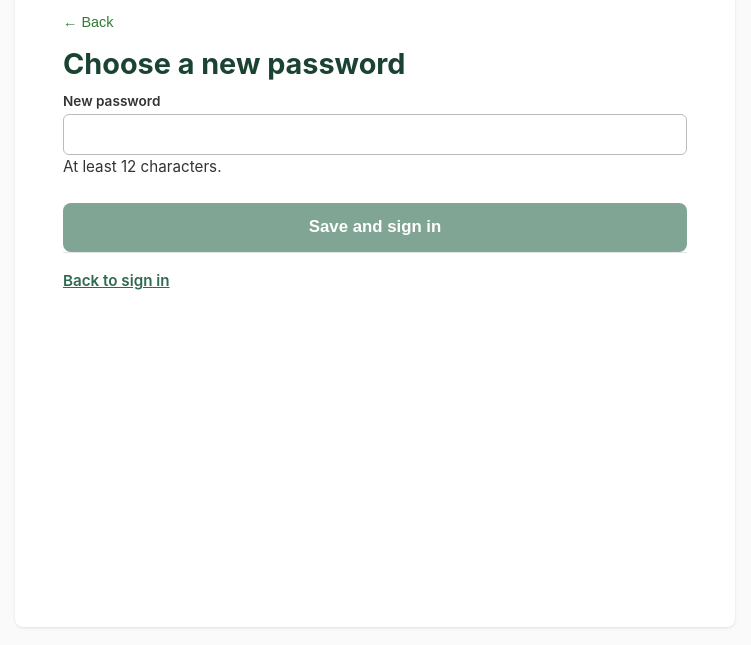
Test: ResetPasswordPage › shows an expired link and stays put
This screenshot has width=751, height=645.
Type "a brand new passphrase" into the password field labelled "New password" at (375, 134), box [63,114,687,155]
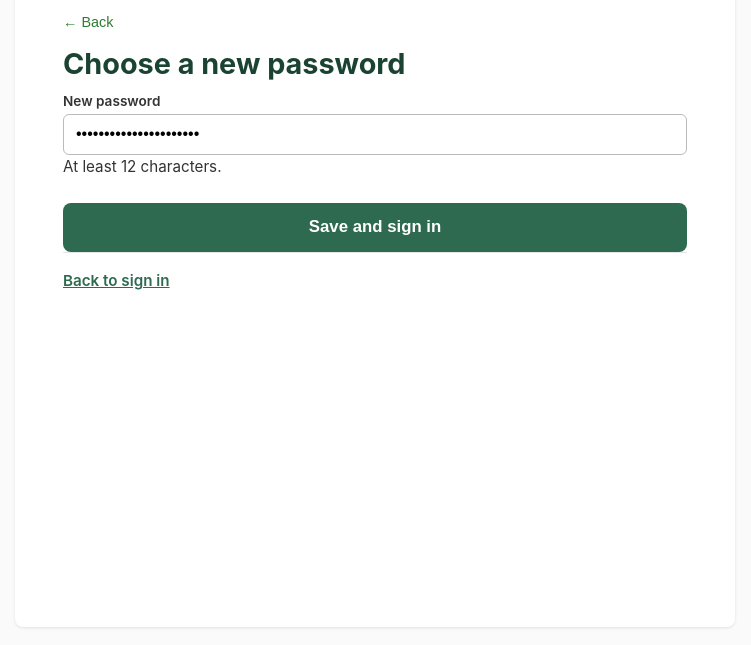
Click the button "Save and sign in" at (375, 227), box [63,203,687,252]
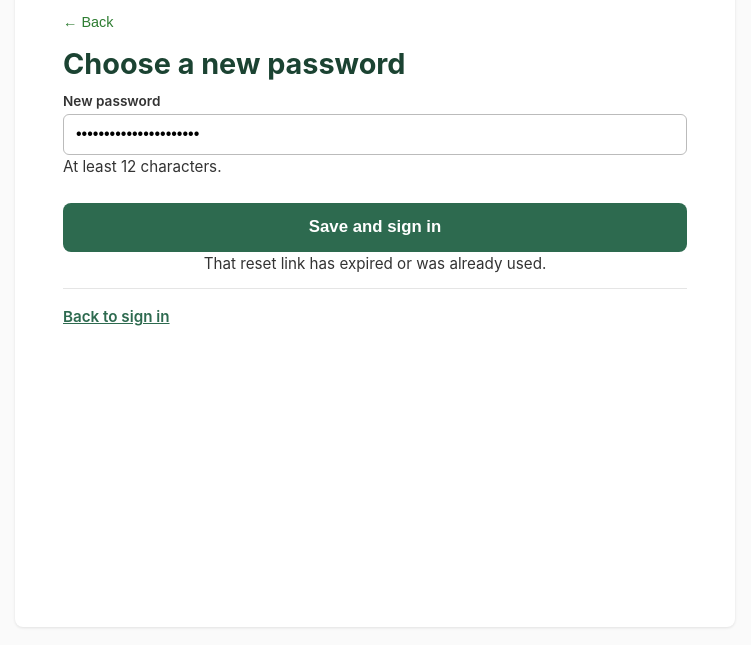
Now the message shows "expired", box [204,254,546,273]
